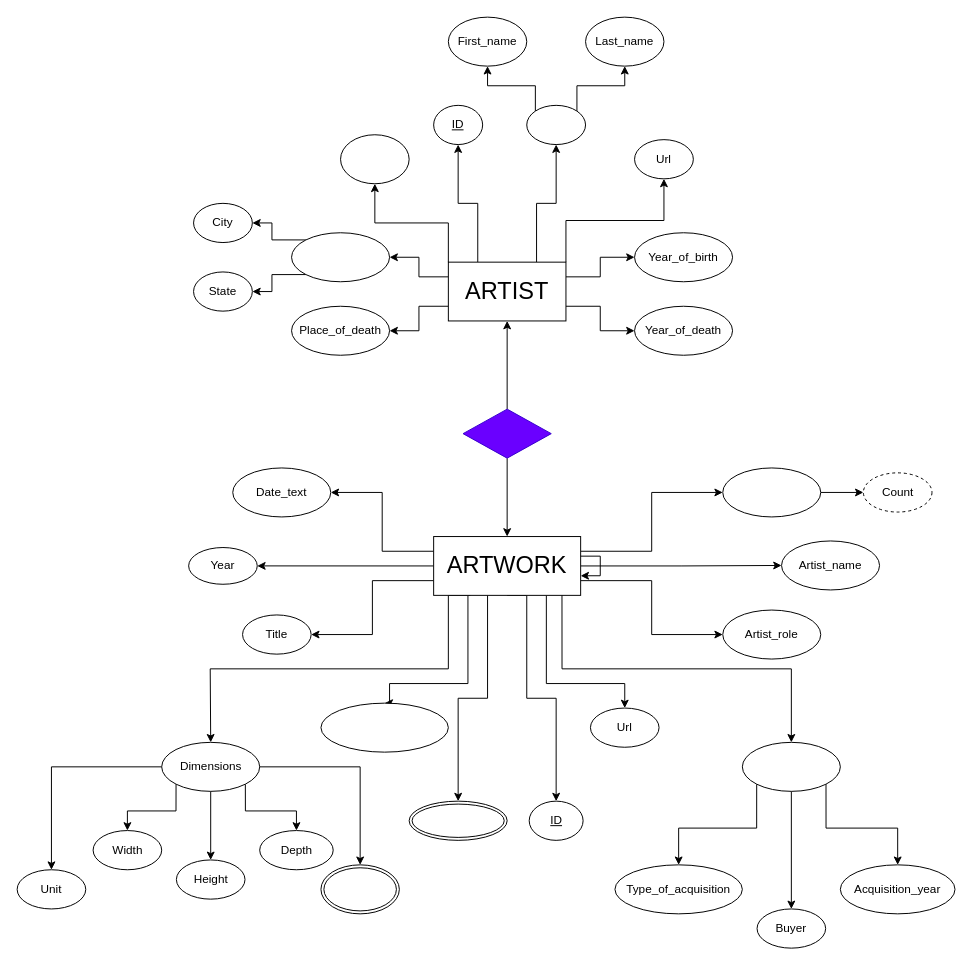
This 972x965 diagram has some shape labels left out. The shapes that lost their labels are listed below. From the top down, each one's centre as x and y in pixels, then its label:
At [556,124]: "Name".
At [374,159]: "Gender".
At [340,257]: "Place_of_birth".
At [506,433]: "Create".
At [771,492]: "Artist_id".
At [384,727]: "Accession_number".
At [790,766]: "Credit_line".
At [457,820]: "Medium".
At [359,889]: "Type".
